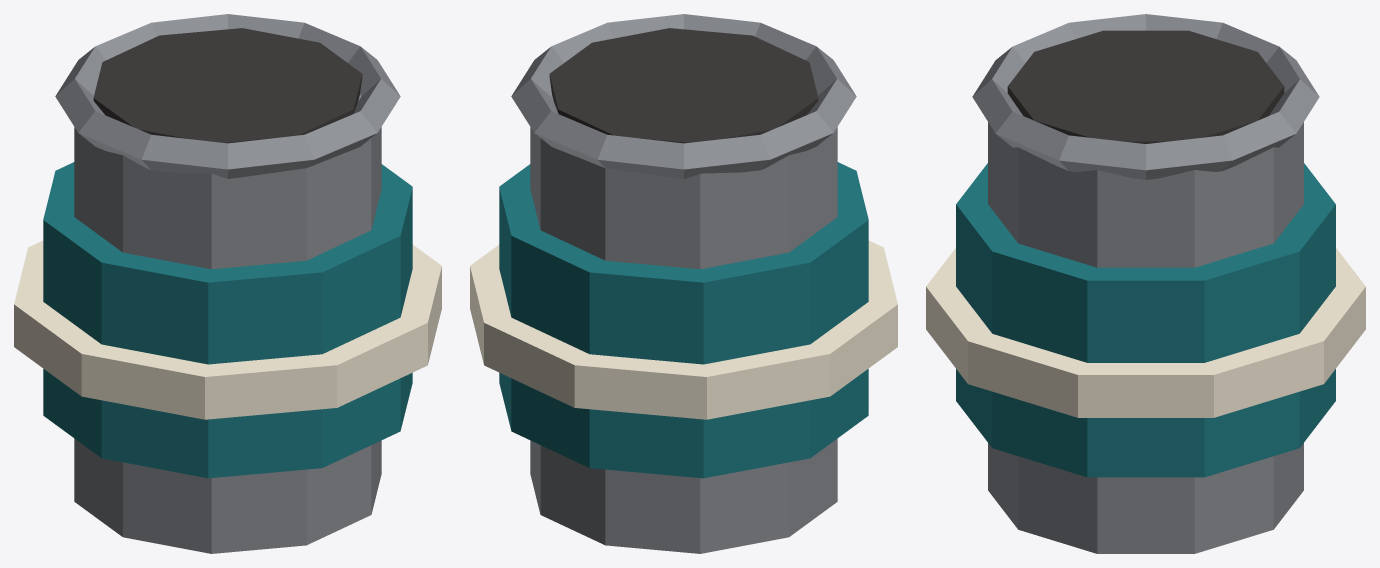
Rendered from fetch_can.glb.
The picture shows the model from 3 angles, left to right: view 1: azimuth 30°, elevation 25°; view 2: azimuth 150°, elevation 25°; view 3: azimuth 270°, elevation 25°; orthographic projection.
Visible parts, largest first — view 1: fetch_can; view 2: fetch_can; view 3: fetch_can.
Part boxes in pixels (bbox=[...]): fetch_can: bbox=[14, 14, 441, 553]; fetch_can: bbox=[470, 14, 897, 553]; fetch_can: bbox=[926, 14, 1365, 553].
Bounding box in the file's own units: 0.106 × 0.115 × 0.1114.
